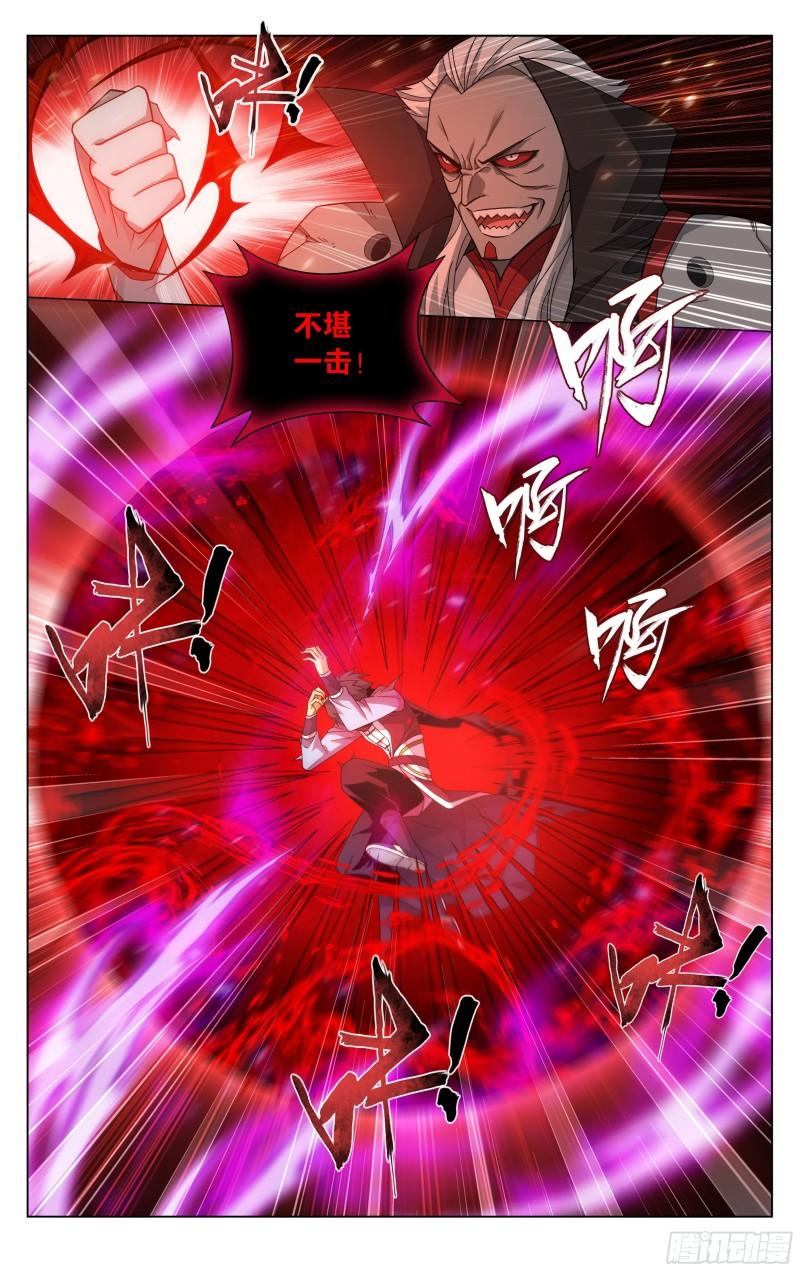boxBad: (201, 236, 465, 443)
minBox: (24, 296, 771, 1216), (24, 32, 770, 328)
